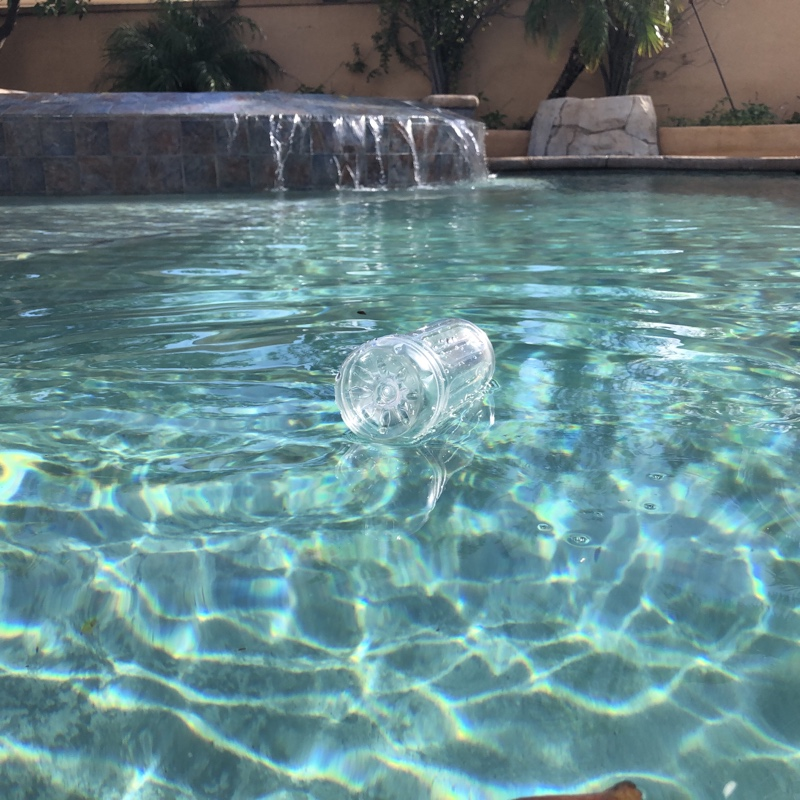Plastic Bottle: (331, 318, 508, 453)
